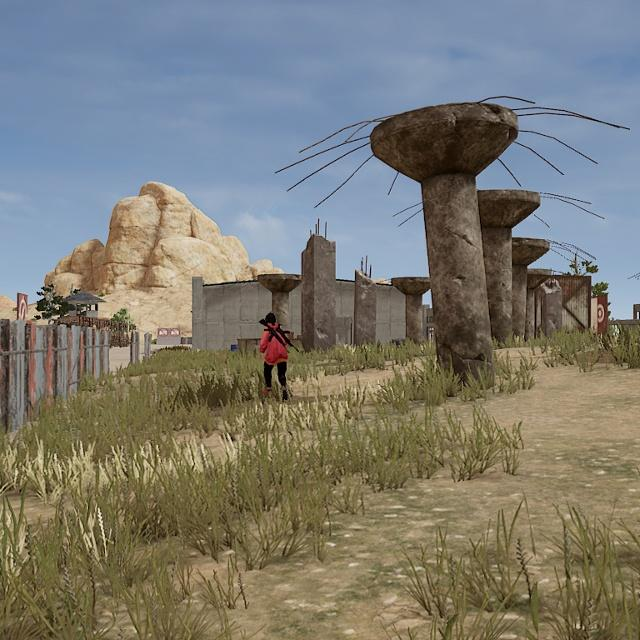head: (263, 310, 279, 327)
people: (257, 308, 296, 404)
